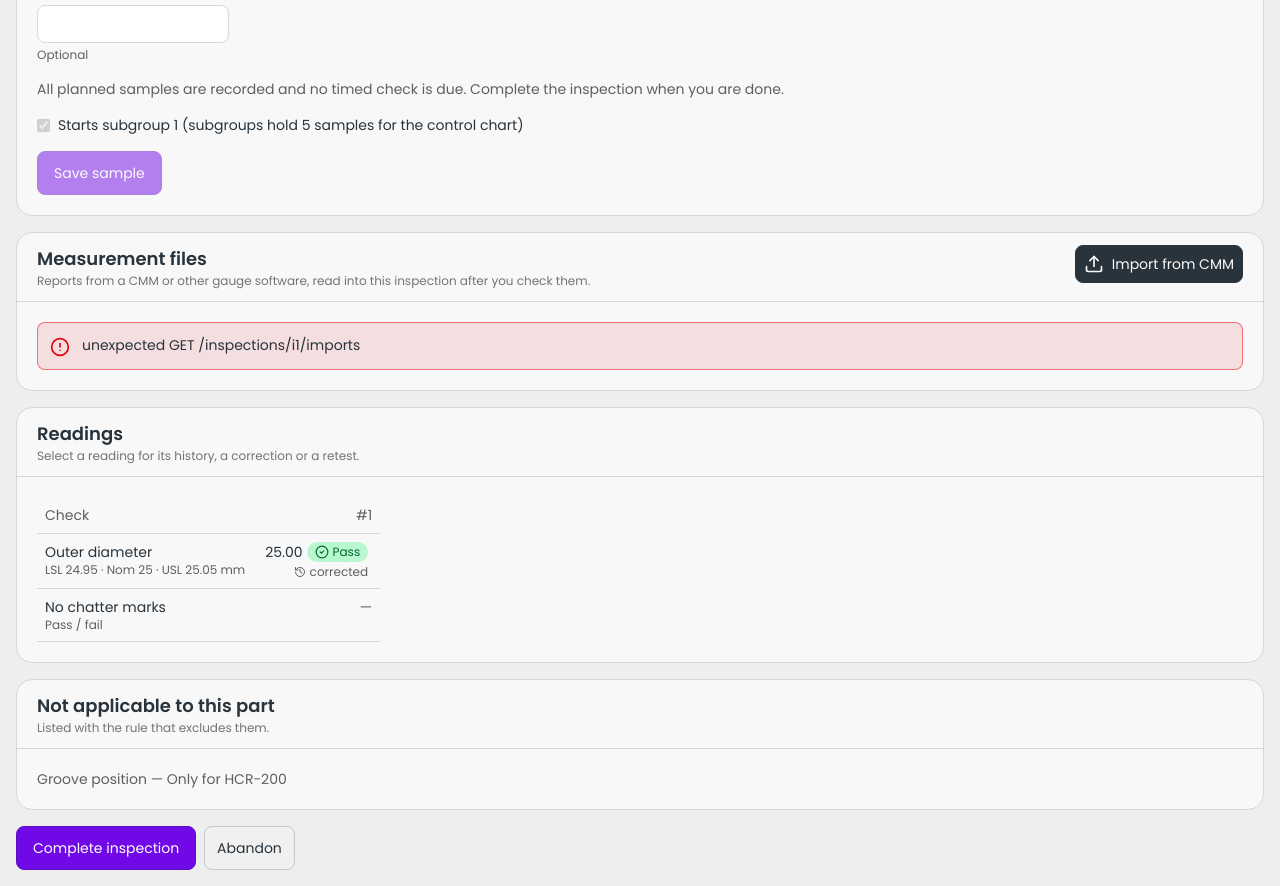
Inspection page › shows the latest value of a corrected reading and corrects with a reason
This screenshot has width=1280, height=886.
Later steps or results of the test are not shown.
(page scrolled)
Expected: the text "25.00" is shown, [265,542,303,562]
Expected: the text "25.50" is not shown
Click the button with aria-label "Outer diameter, sample 1: details": (317, 561) [261,542,372,580]
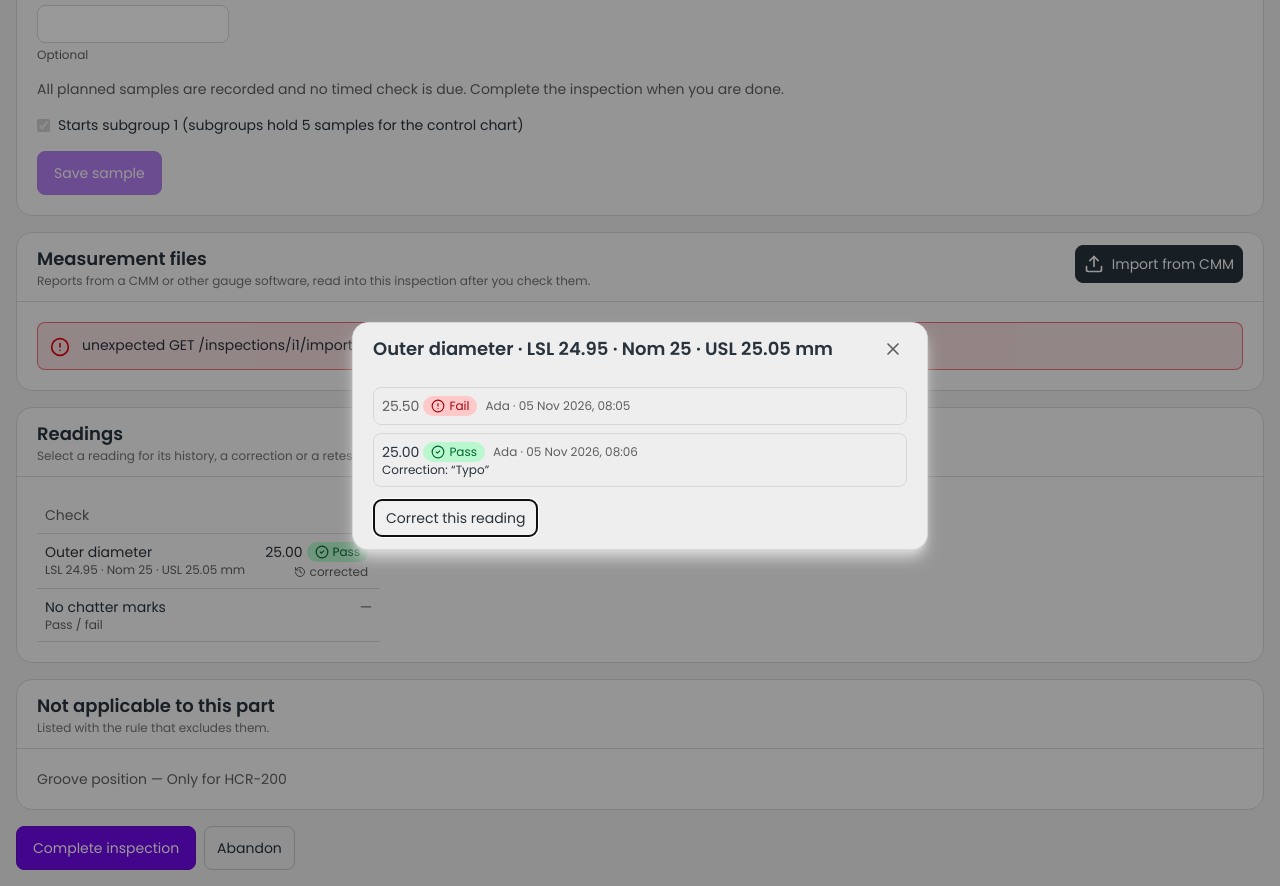
Result: the text "Correction: “Typo”" is shown at [382,461,489,478]
